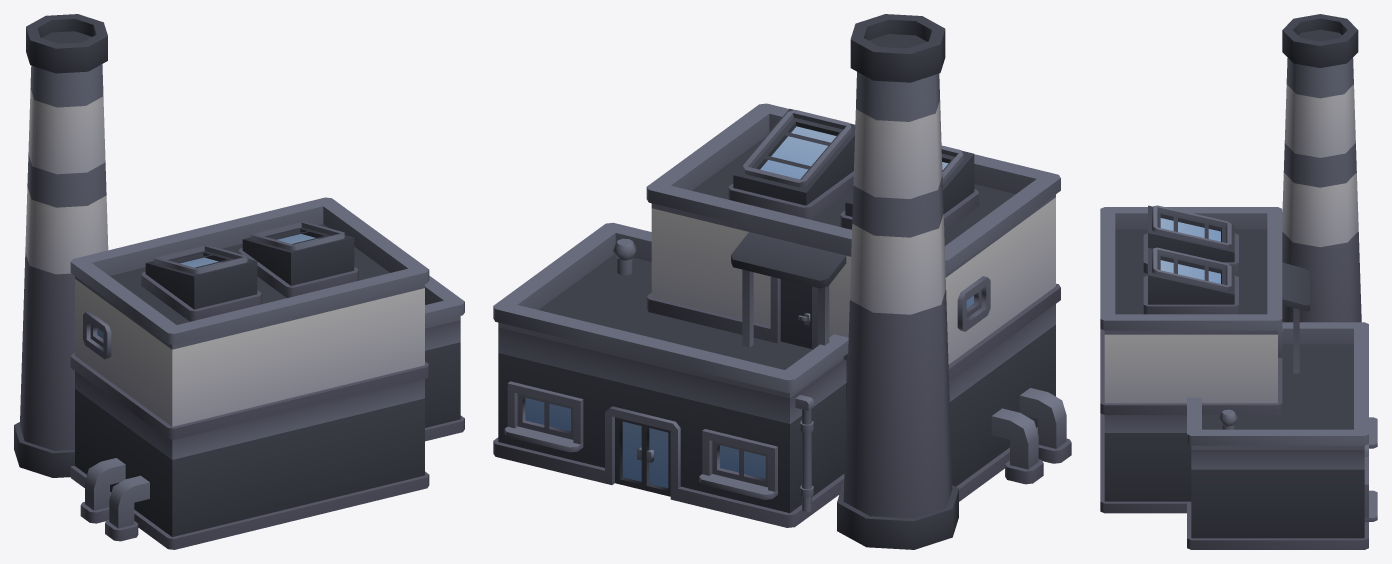
File: industrial-building-f.glb
3 renders of one model, left to right at view 1: azimuth 30°, elevation 25°; view 2: azimuth 150°, elevation 25°; view 3: azimuth 270°, elevation 25°, orthographic. The views are drawn at different scales.
Visible parts, largest first — view 1: building-f; view 2: building-f; view 3: building-f.
Boxes of the visible parts, <box> form: building-f: <box>14,14,464,549</box>; building-f: <box>493,14,1071,549</box>; building-f: <box>1100,14,1377,549</box>.
Bounding box in the file's own units: 1.79 × 1.92 × 1.28.
